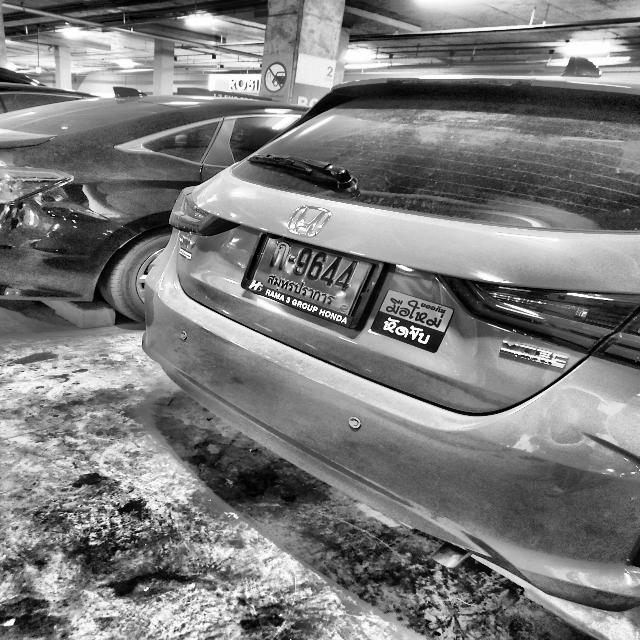license-plate: (251, 235, 376, 317)
